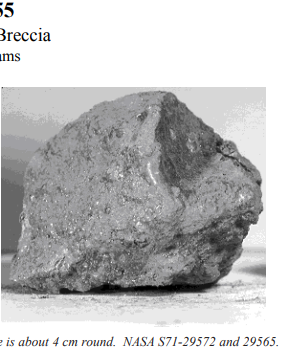Breccia: (0, 90, 260, 311), (34, 93, 265, 287)
